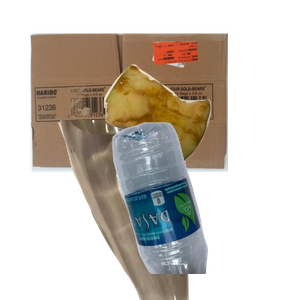cardboard: (28, 31, 249, 195)
glass: (56, 120, 241, 300)
plastic: (110, 120, 300, 300)
trash: (101, 62, 300, 217)
